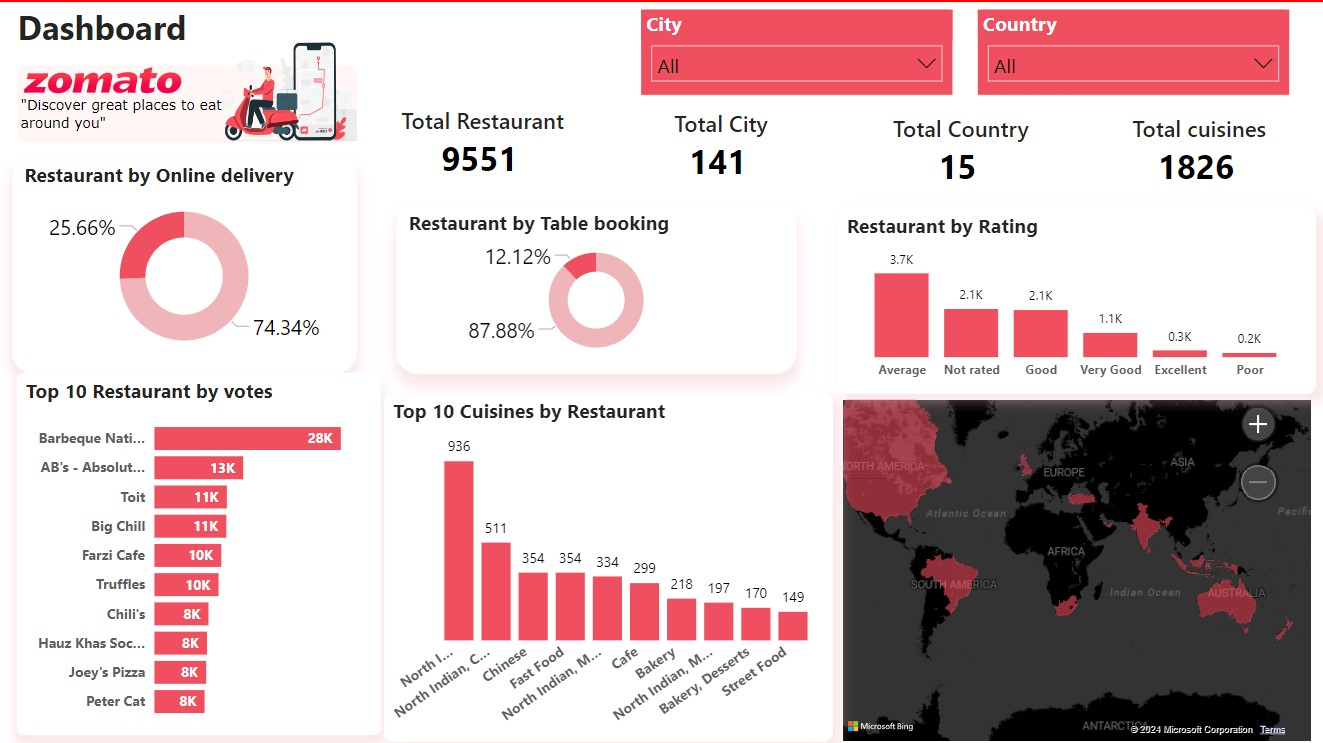

The dashboard page shown, as its layout file describes it:
{"tool":"powerbi","page":{"name":"Page 1","canvas":[1280,720],"ordinal":0},"visuals":[{"type":"group","id":"g1","title":"Group 3","box":[12.6,0,348,149.7],"z":0},{"type":"textbox","box":[12.6,0,186.9,56.5],"z":0,"group":"g1"},{"type":"slicer","title":"City","fields":{"Values":["zomato.City"]},"box":[617,10,300,82],"z":0,"group":"g3"},{"type":"shape","box":[16.3,64.2,328,75],"z":0,"group":"g4"},{"type":"card","title":"Total Restaurant","fields":{"Values":["CountNonNull(zomato.Restaurant_ID)"]},"box":[366,95.1,193.2,91],"z":0,"group":"g2"},{"type":"slicer","title":"Country","fields":{"Values":["zomato.Country_Name"]},"box":[942,10,300,82],"z":1000,"group":"g3"},{"type":"image","box":[198,25.1,162.6,124.5],"z":1000,"group":"g4"},{"type":"card","title":"Total City","fields":{"Values":["Count(zomato.City)"]},"box":[595.3,97.7,193.2,91],"z":1000,"group":"g2"},{"type":"donutChart","title":"Restaurant by Online delivery","fields":{"Category":["zomato.Has_Online_delivery"],"Y":["CountNonNull(zomato.Restaurant_ID)"]},"box":[12.3,149.1,331.6,210.5],"z":1000},{"type":"image","box":[16.3,38.3,165,79.2],"z":2000,"group":"g4"},{"type":"group","id":"g2","title":"Group 4","box":[366,95.1,882.8,99],"z":2000},{"type":"card","title":"Total Country","fields":{"Values":["Count(zomato.Country_Name)"]},"box":[826.3,103,193.2,91],"z":2000,"group":"g2"},{"type":"group","id":"g3","title":"Group 5","box":[617,10,625,82],"z":3000},{"type":"group","id":"g4","title":"Group 1","box":[16.3,25.1,344.3,124.5],"z":3000,"group":"g5"},{"type":"card","title":"Total cuisines","fields":{"Values":["Count(zomato.Cuisines)"]},"box":[1055.6,103,193.2,91],"z":3000,"group":"g2"},{"type":"textbox","box":[15.3,86.8,203.8,50.9],"z":4000,"group":"g5"},{"type":"barChart","title":"Top 10 Restaurant by votes","fields":{"Category":["zomato.Restaurant_Name"],"Y":["Sum(zomato.Votes)"]},"box":[15.8,359.6,350.9,349.1],"z":4000},{"type":"group","id":"g5","title":"Group 2","box":[15.3,25.1,345.3,124.5],"z":4003,"group":"g1"},{"type":"filledMap","fields":{"Category":["zomato.Country_Name"]},"box":[807,396.5,461.4,322.8],"z":5000},{"type":"clusteredColumnChart","title":"Restaurant by Rating","fields":{"Category":["zomato.Rating_text"],"Y":["CountNonNull(zomato.Restaurant_ID)"]},"box":[807,217.5,461.4,178.9],"z":6000},{"type":"clusteredColumnChart","title":"Top 10 Cuisines by Restaurant ","fields":{"Category":["zomato.Cuisines"],"Y":["CountNonNull(zomato.Restaurant_ID)"]},"box":[370.7,378.6,432,336.2],"z":7000}]}

Visuals, with their boxes in screenshot pixels (x1, y1, x2, y2), scaled from the page's 1280x720 canvas onto the 1323x743 screenshot:
"Group 3" group: bbox=[13, 0, 373, 154]
textbox: bbox=[13, 0, 206, 58]
"City" slicer: bbox=[638, 10, 948, 95]
shape: bbox=[17, 66, 356, 144]
"Total Restaurant" card: bbox=[378, 98, 578, 192]
"Country" slicer: bbox=[974, 10, 1284, 95]
image: bbox=[205, 26, 373, 154]
"Total City" card: bbox=[615, 101, 815, 195]
"Restaurant by Online delivery" donutChart: bbox=[13, 154, 355, 371]
image: bbox=[17, 40, 187, 121]
"Group 4" group: bbox=[378, 98, 1291, 200]
"Total Country" card: bbox=[854, 106, 1054, 200]
"Group 5" group: bbox=[638, 10, 1284, 95]
"Group 1" group: bbox=[17, 26, 373, 154]
"Total cuisines" card: bbox=[1091, 106, 1291, 200]
textbox: bbox=[16, 90, 226, 142]
"Top 10 Restaurant by votes" barChart: bbox=[16, 371, 379, 731]
"Group 2" group: bbox=[16, 26, 373, 154]
filledMap - zomato.Country_Name: bbox=[834, 409, 1311, 742]
"Restaurant by Rating" clusteredColumnChart: bbox=[834, 224, 1311, 409]
"Top 10 Cuisines by Restaurant " clusteredColumnChart: bbox=[383, 391, 830, 738]
